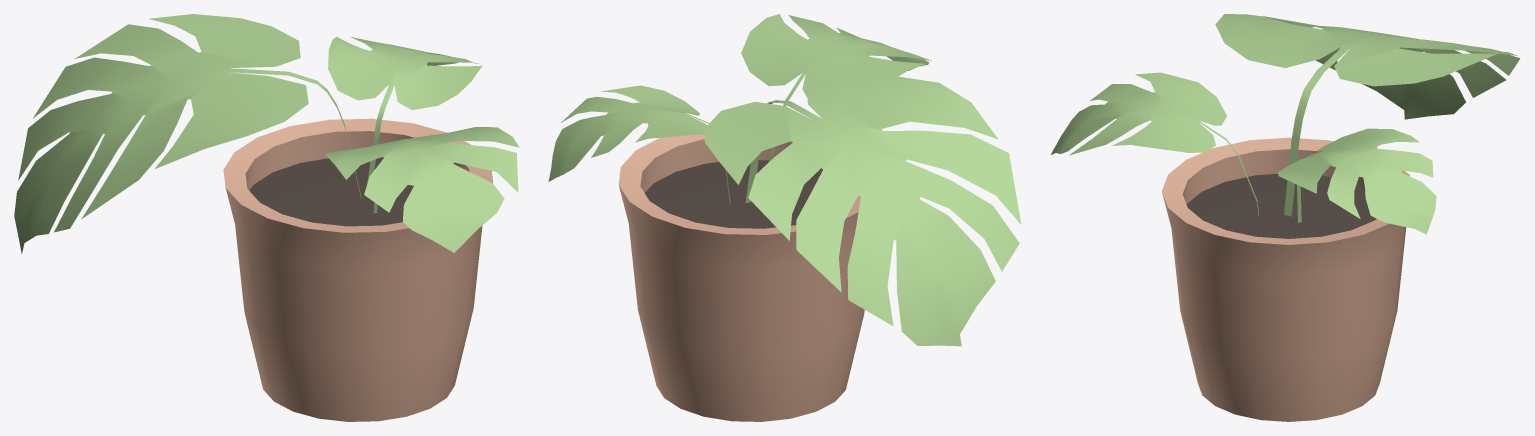
The model's file is Model_OfficePlant.fbx.
3 renders of one model, left to right at view 1: azimuth 30°, elevation 25°; view 2: azimuth 150°, elevation 25°; view 3: azimuth 270°, elevation 25°, orthographic. The views are drawn at different scales.
Visible parts, largest first — view 1: pasted__pCylinder1, pasted__pDisc1, pasted__pDisc2, pasted__pDisc3; view 2: pasted__pDisc1, pasted__pCylinder1, pasted__pDisc2, pasted__pDisc3; view 3: pasted__pCylinder1, pasted__pDisc1, pasted__pDisc3, pasted__pDisc2.
Part boxes in pixels (x1,y1,x2,y2): pasted__pCylinder1: (223, 118, 492, 421); pasted__pDisc1: (14, 14, 361, 254); pasted__pDisc2: (325, 127, 519, 252); pasted__pDisc3: (328, 36, 481, 184); pasted__pDisc1: (704, 75, 1021, 346); pasted__pCylinder1: (618, 134, 864, 421); pasted__pDisc2: (741, 14, 931, 161); pasted__pDisc3: (548, 85, 730, 204); pasted__pCylinder1: (1162, 137, 1409, 421); pasted__pDisc1: (1215, 14, 1520, 216); pasted__pDisc3: (1277, 128, 1436, 234); pasted__pDisc2: (1051, 72, 1258, 215).
Bounding box in the file's own units: 1.68 × 1.15 × 1.68.
